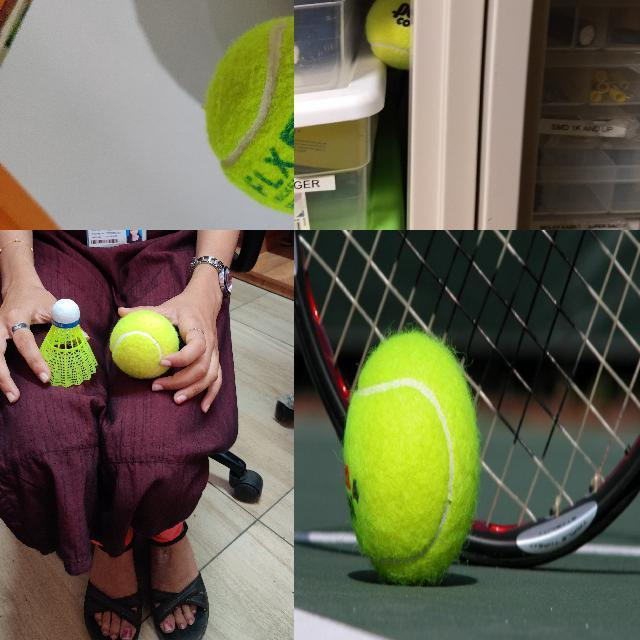tennis-ball: (343, 329, 481, 582), (202, 12, 293, 219), (109, 311, 177, 378), (364, 0, 408, 72)
